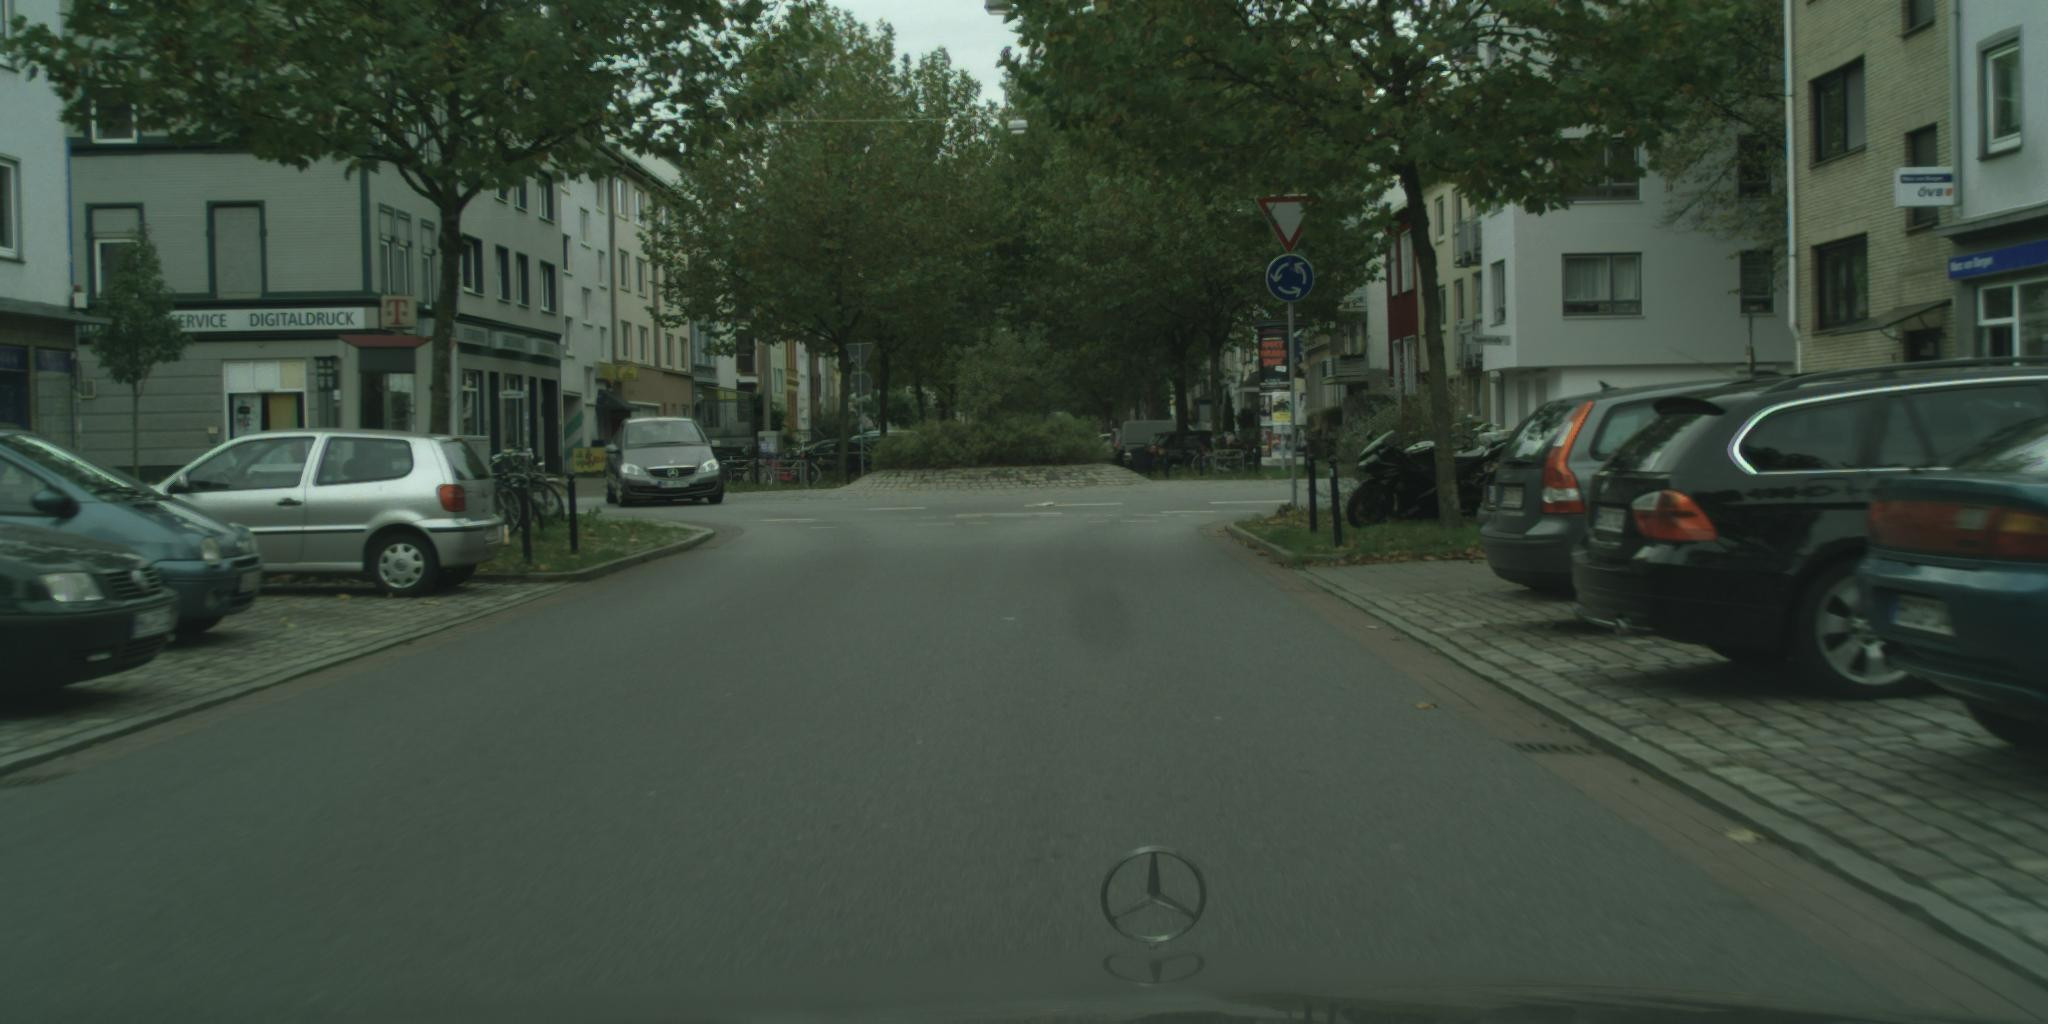bicycle: (1448, 421, 1516, 492), (744, 448, 773, 490), (711, 465, 739, 492)
car: (1571, 358, 2048, 701), (1481, 370, 1830, 603), (1857, 411, 2048, 752), (148, 428, 505, 598), (1, 434, 259, 647), (1, 424, 263, 586), (1, 520, 180, 714), (605, 417, 725, 508), (1475, 436, 1529, 530), (1152, 432, 1238, 478), (1147, 434, 1189, 475)
motorcycle: (1347, 431, 1519, 530)
